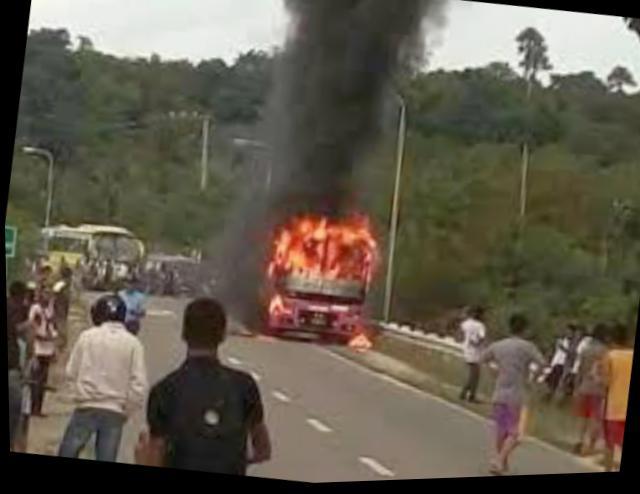fire: (230, 189, 393, 376)
